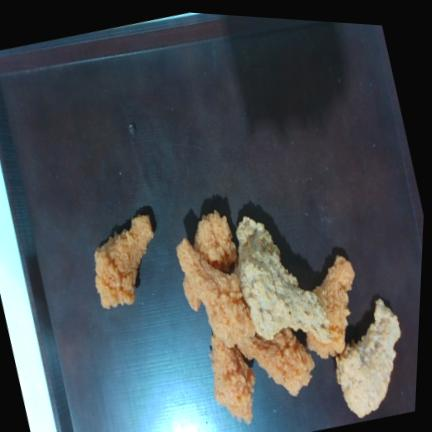chicken: (236, 252, 331, 342), (176, 238, 254, 346), (336, 299, 400, 417), (94, 214, 153, 307), (237, 327, 314, 395), (306, 256, 354, 357), (209, 333, 254, 423), (194, 209, 237, 271), (183, 276, 200, 310)
